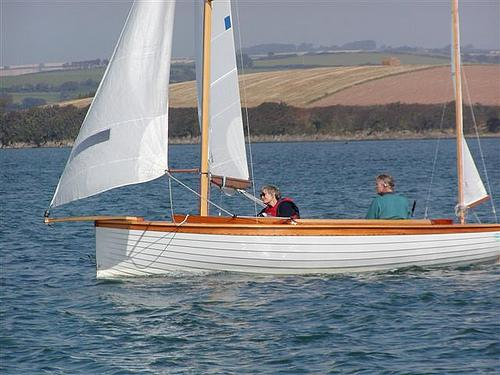Ship: (45, 1, 500, 277)
